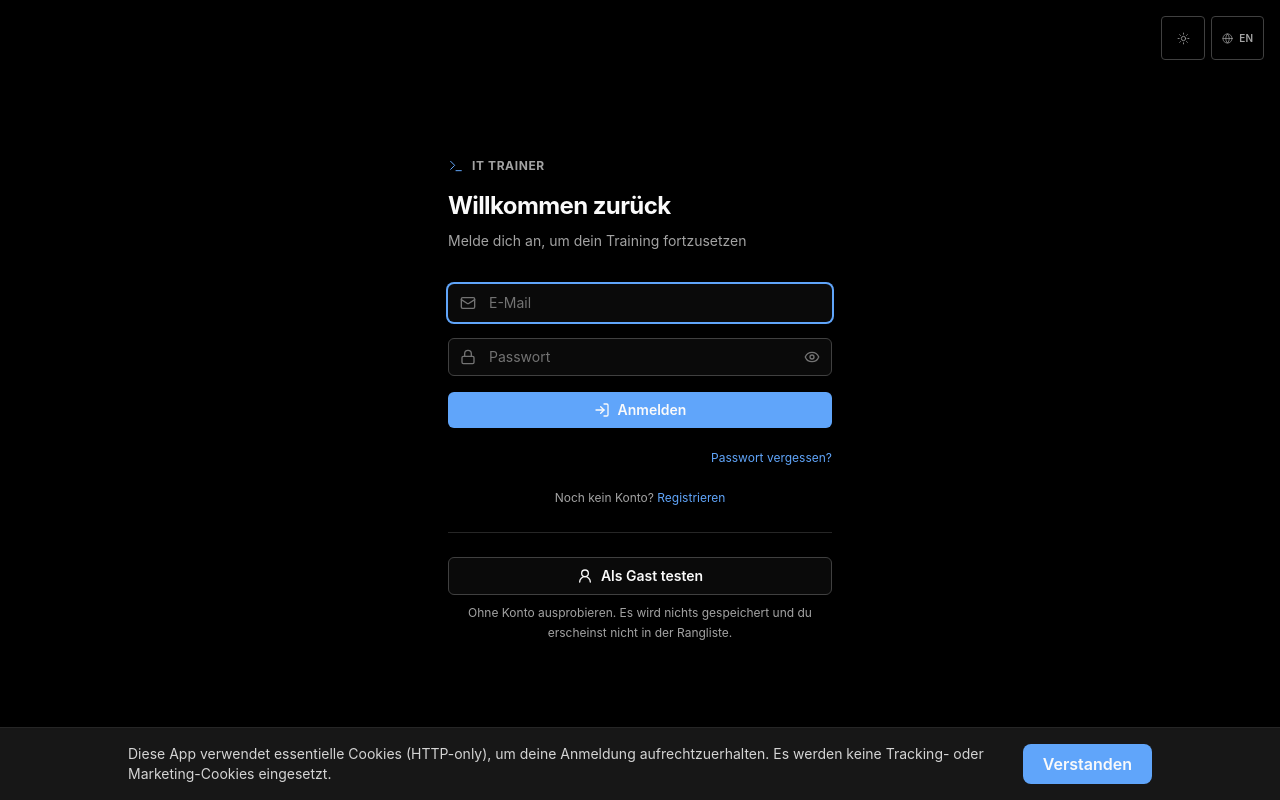
Test: App › applies the server answer to the HUD and the sidebar without a second round-trip
Expected: the heading "Willkommen zurück" is shown, [448,191,670,220]
Type "test@example.com" into the field labelled "E-Mail" at [640, 303], box [448,284,832,322]
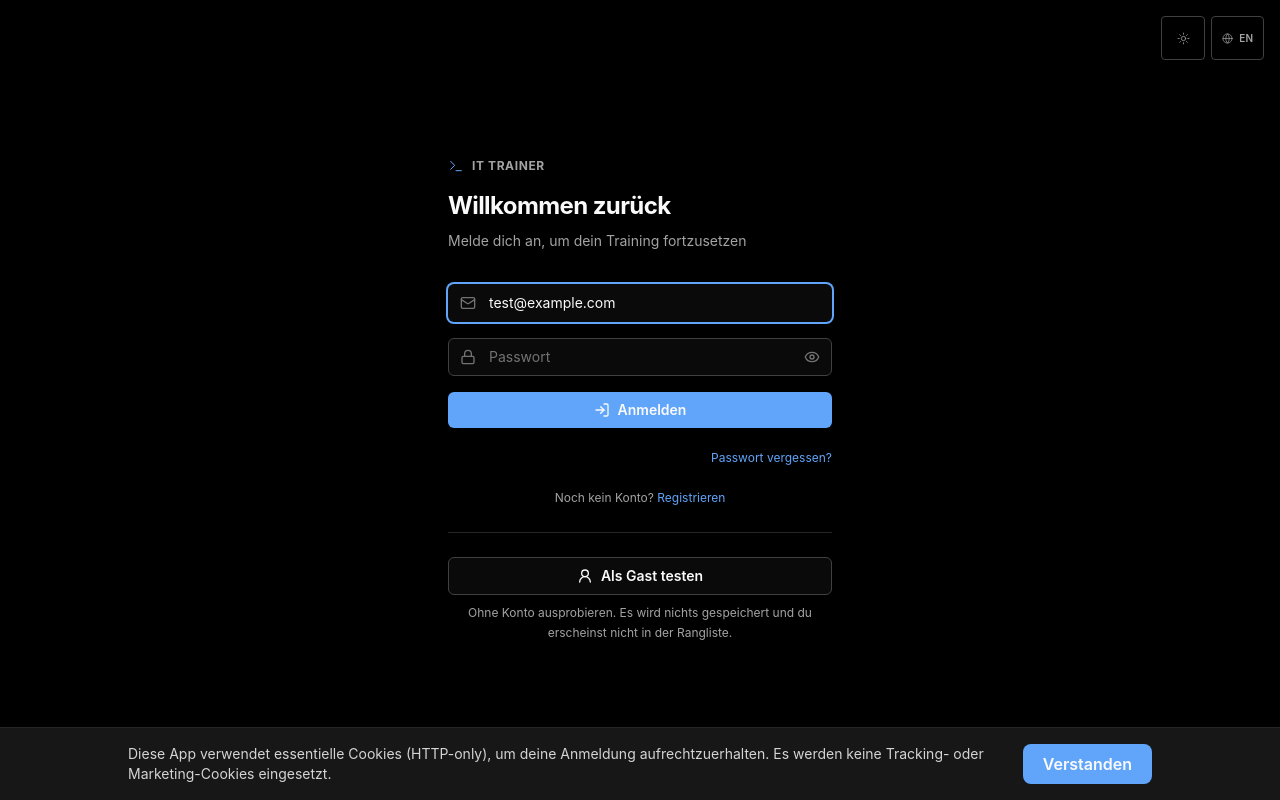
Type "Test1234!" into the password field labelled "Passwort" at [640, 357], box [448,338,832,376]
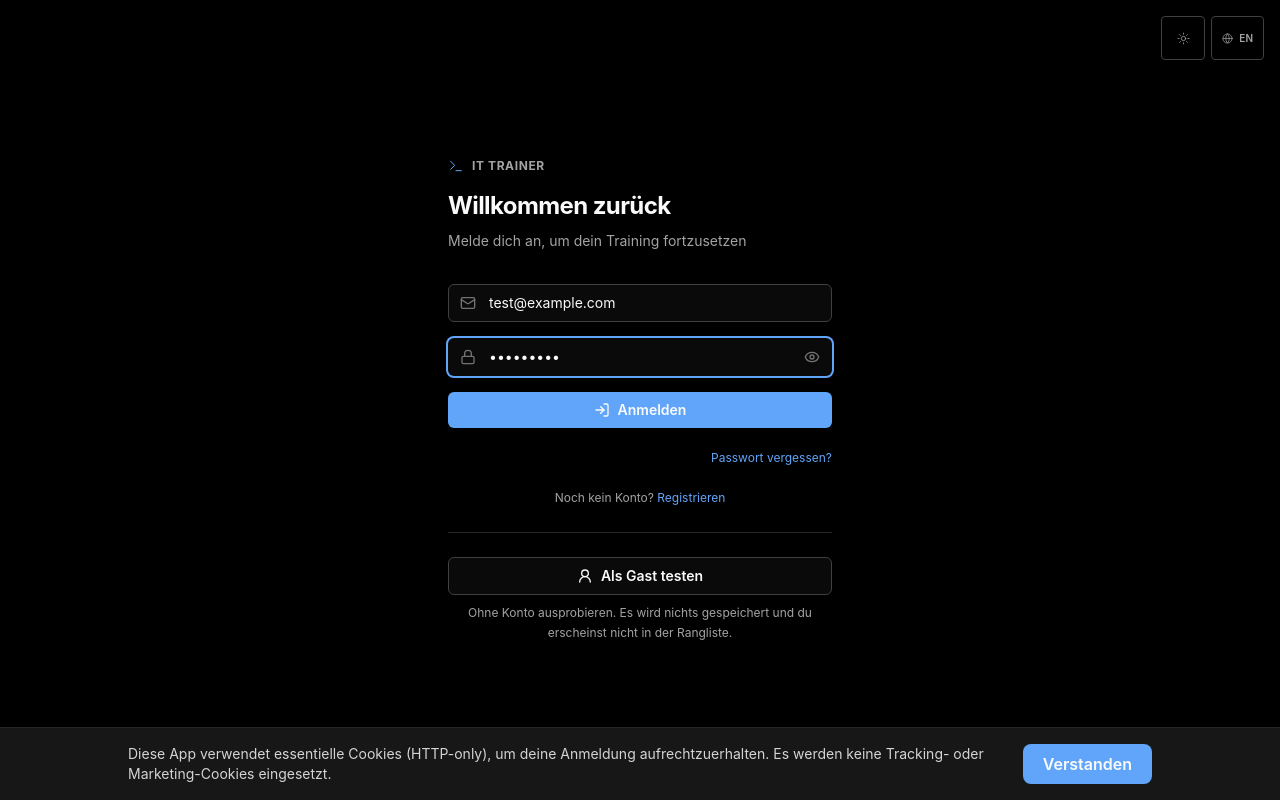
Click the button "Anmelden" at [640, 410], box [448,392,832,428]
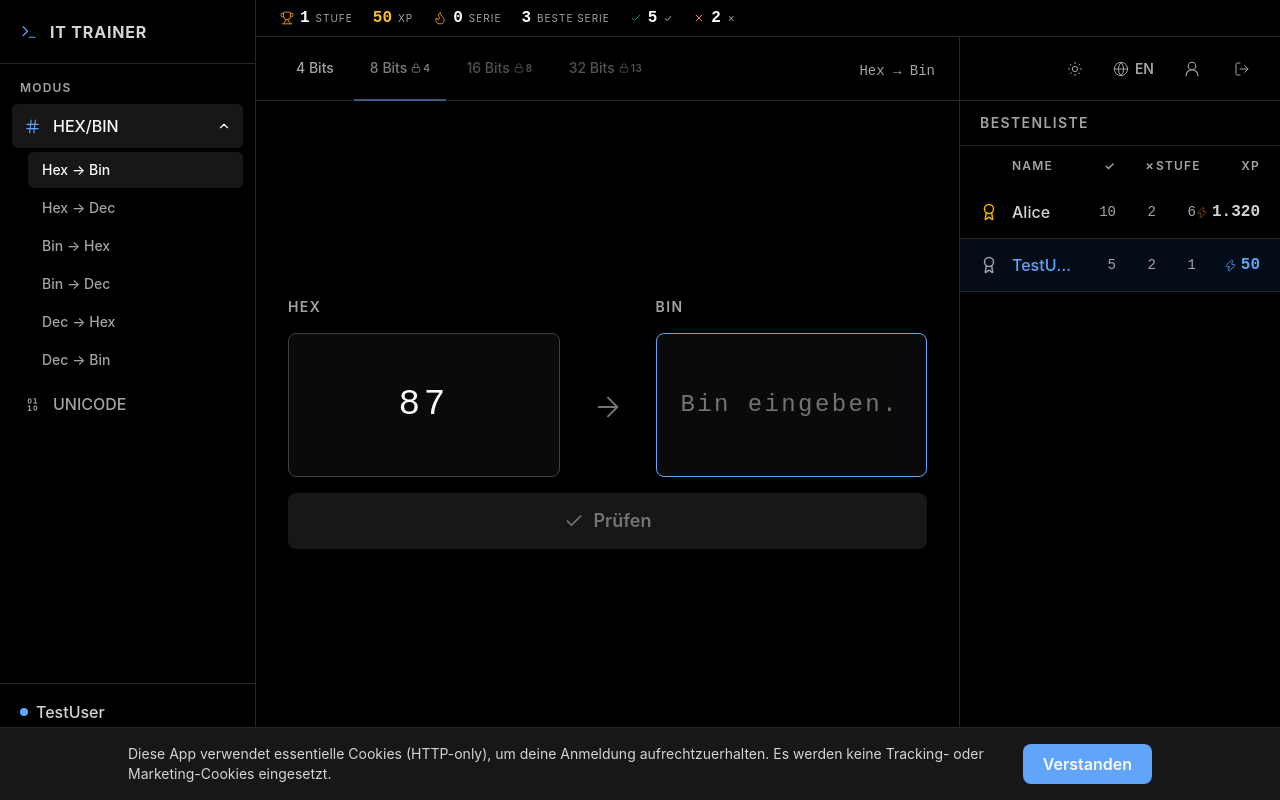
Result: the element named "hex/binary trainer" is shown at [256,37,959,799]
Type "10000111" into the field at [791, 404], box [680,388,902,421]
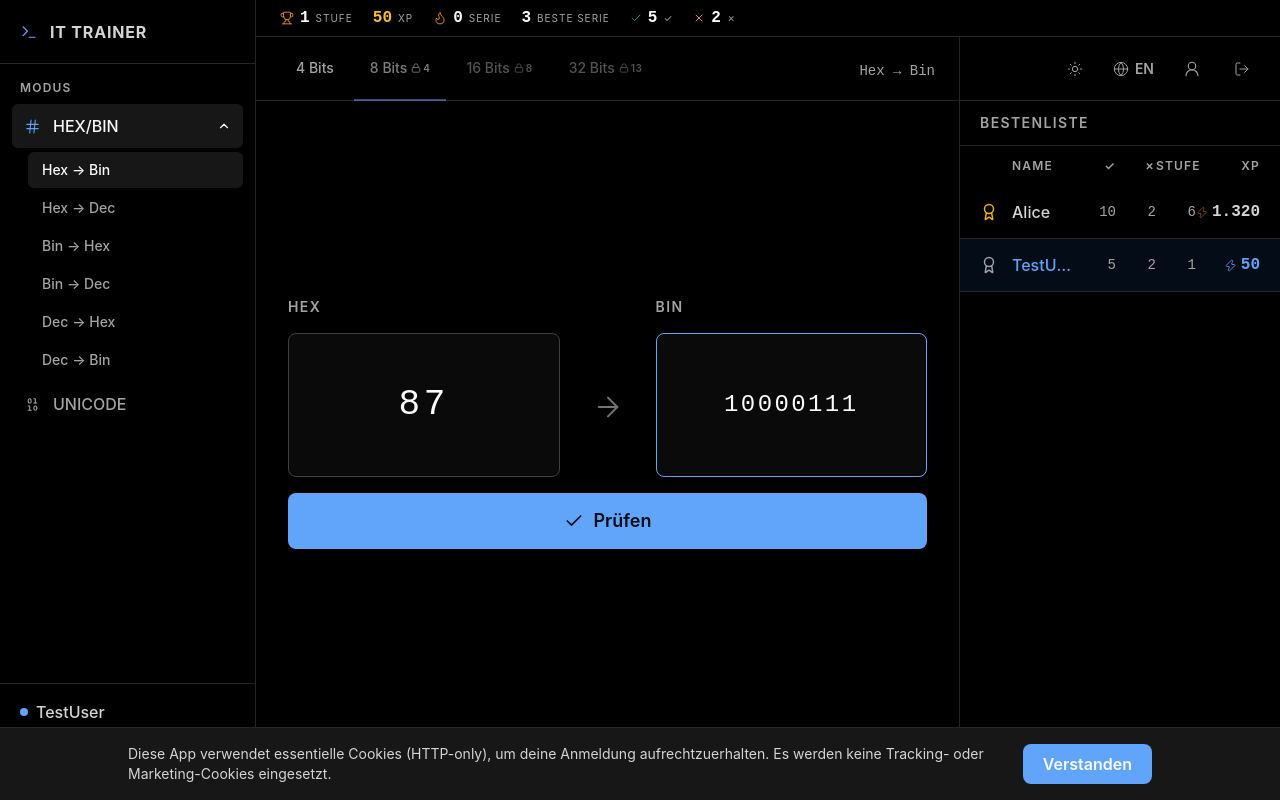
Click the button with aria-label "check answer" at [608, 520], box [288,492,927,548]
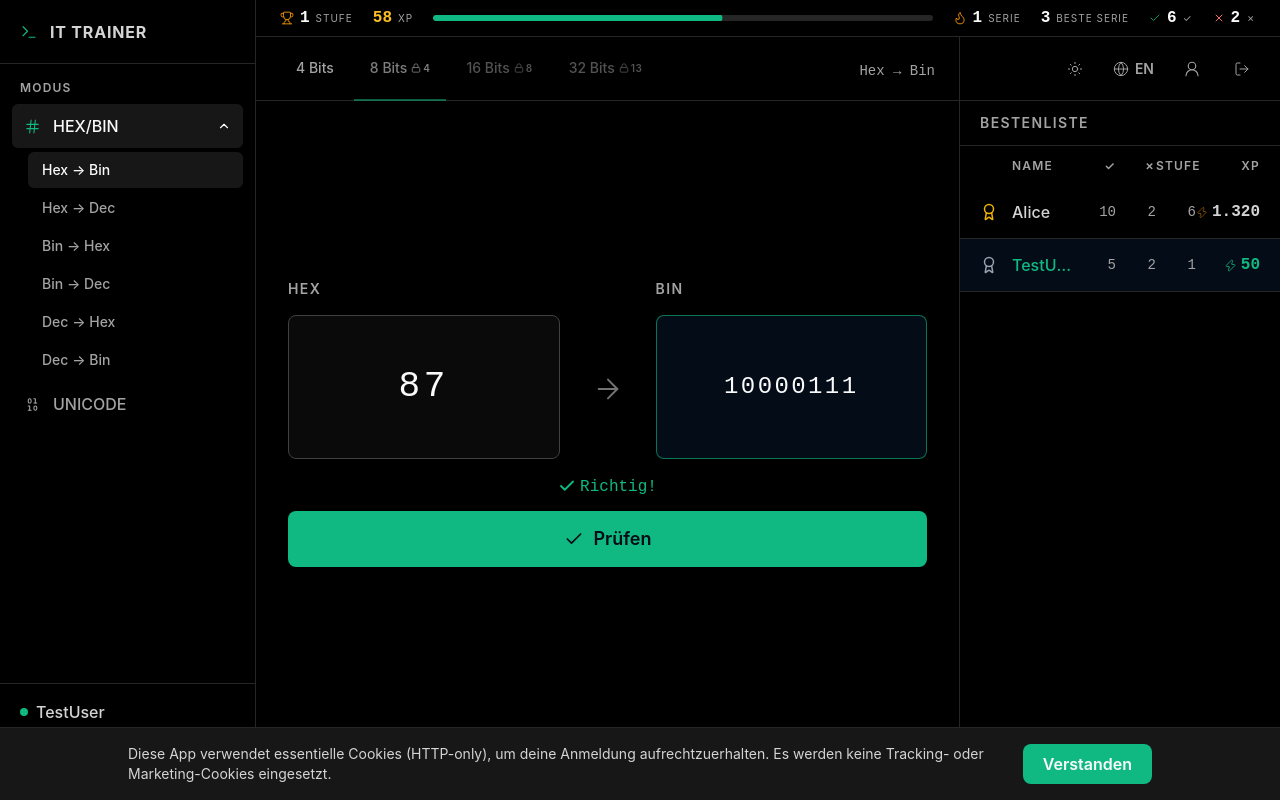
Expected: the element named "Your statistics" reads "6 OK 2 ERR 58 XP", [46,743,212,783]
Result: the element labelled "Beste Serie" shows "3" at [1041,9,1050,27]
Result: the element labelled "Serie" shows "1" at [972,9,982,27]
